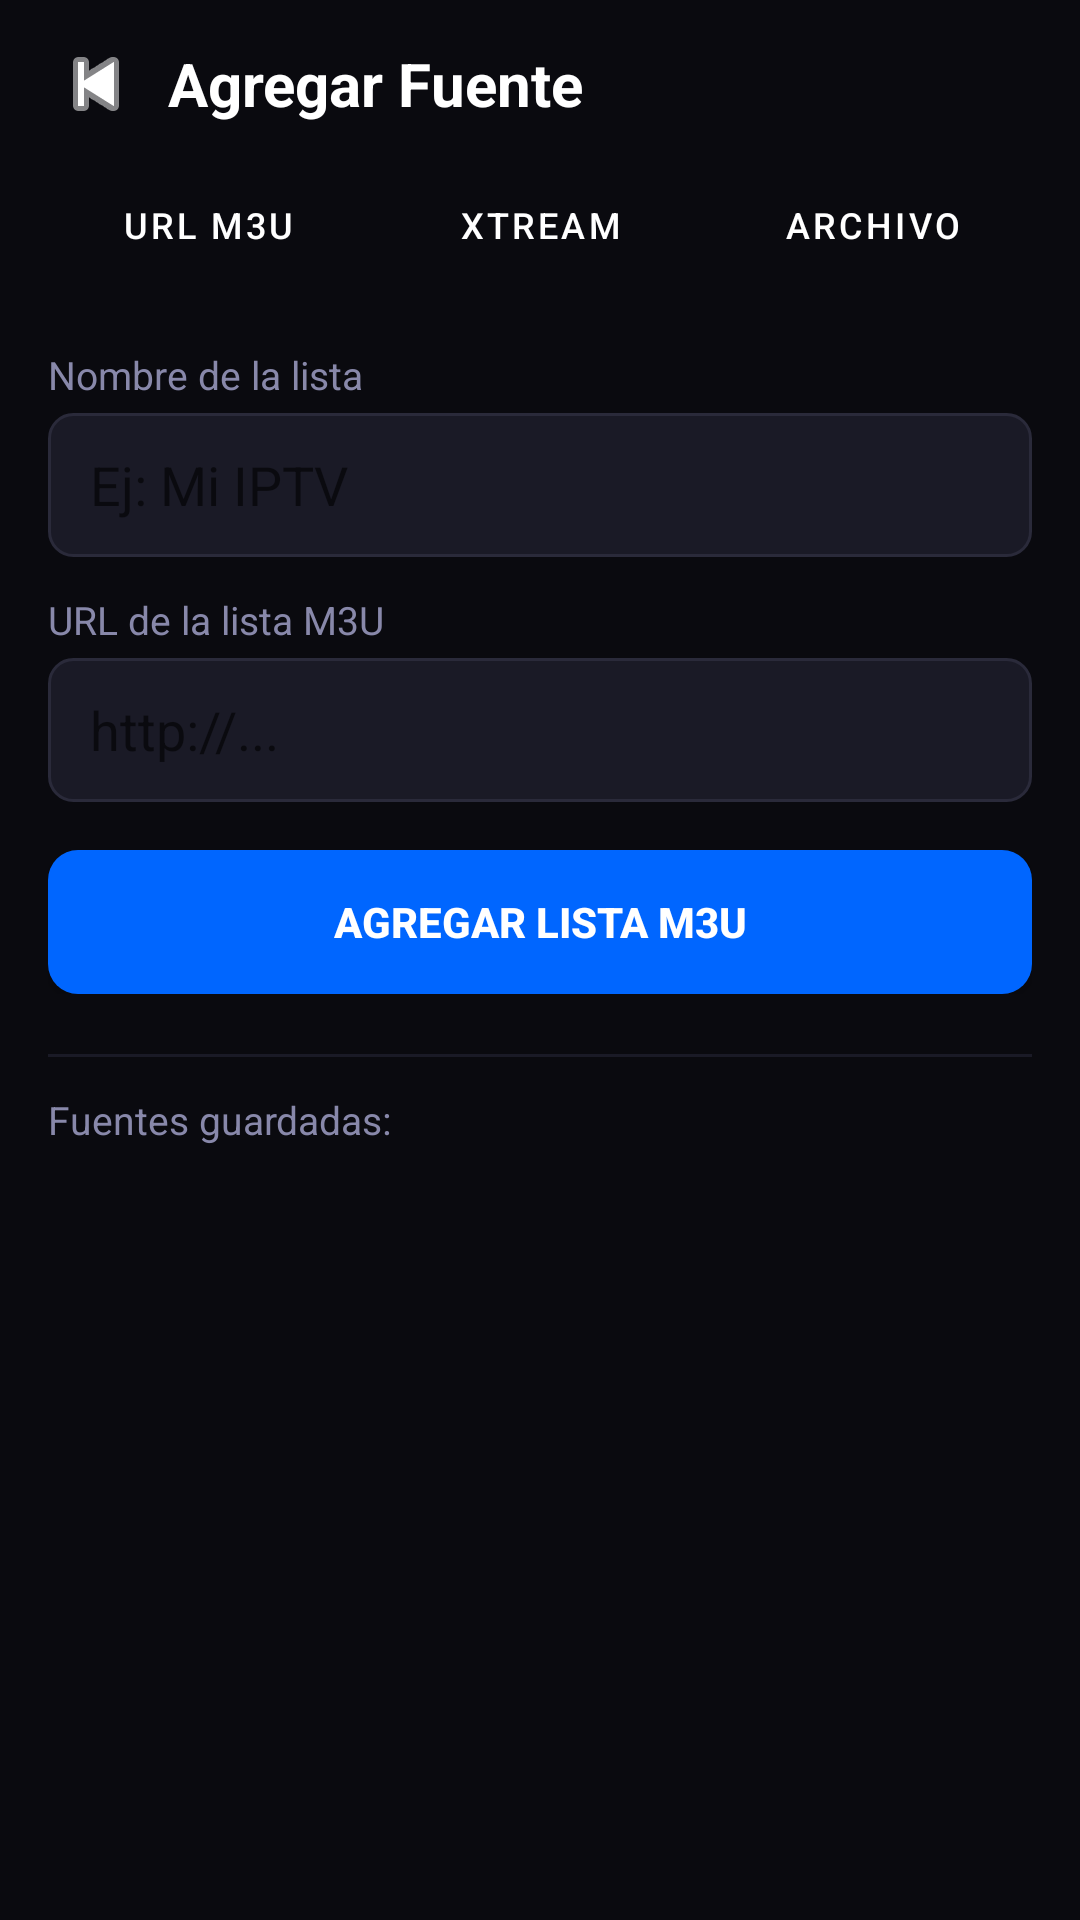

Icon bounding boxes for this 1080×1920 phone screenshot, format (x1, y1, x2, y2):
previous: (73, 57, 119, 111)
